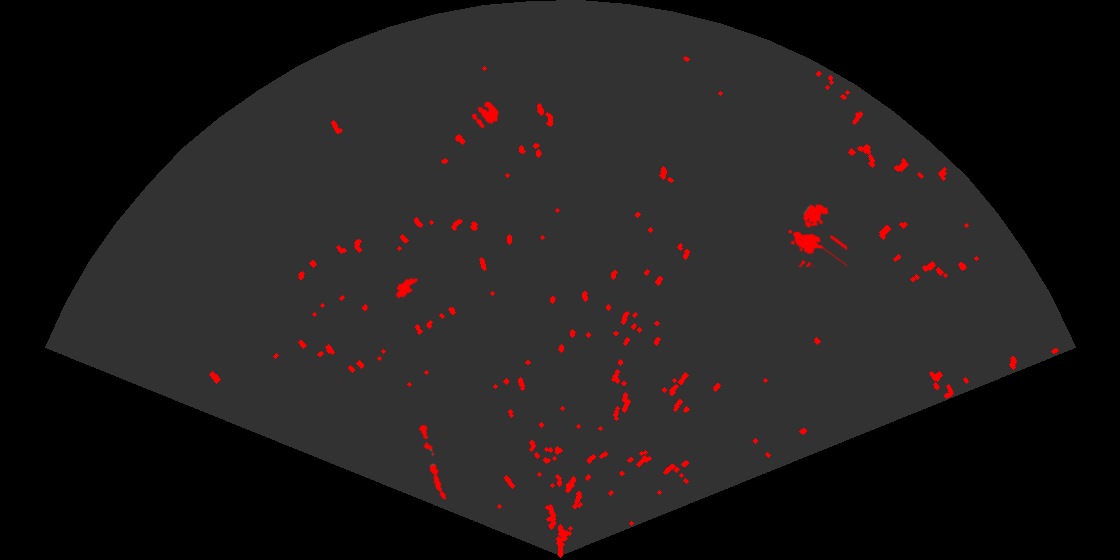AUV: (394, 276, 419, 300)
ball: (470, 100, 501, 130)
cage: (787, 202, 847, 267)
chain: (417, 422, 448, 502)
